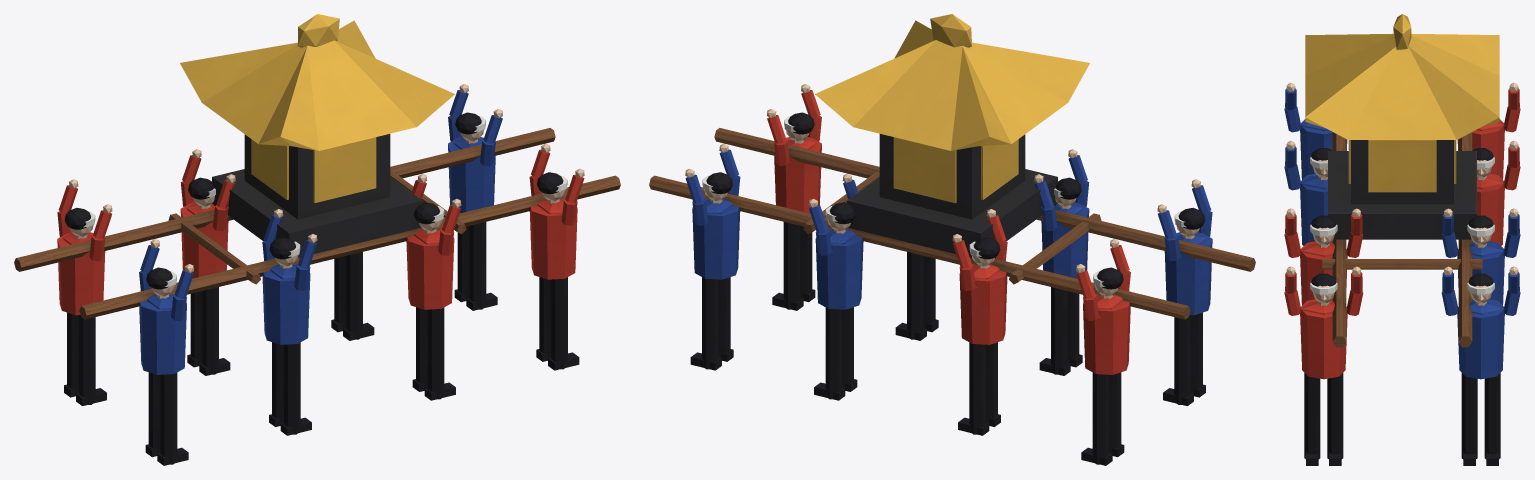
File: mikoshi_tex.glb
3 renders of one model, left to right at view 1: azimuth 30°, elevation 25°; view 2: azimuth 150°, elevation 25°; view 3: azimuth 270°, elevation 25°, orthographic. The views are drawn at different scales.
Visible parts, largest first — view 1: mikoshi; view 2: mikoshi; view 3: mikoshi.
Boxes of the visible parts, x1,y1,x2,y2 form: mikoshi: (14,14,620,465); mikoshi: (649,14,1255,465); mikoshi: (1284,14,1520,465).
Bounding box in the file's own units: 5.2 × 3.4 × 2.07.
Materials: 9 (9 with a texture image).
